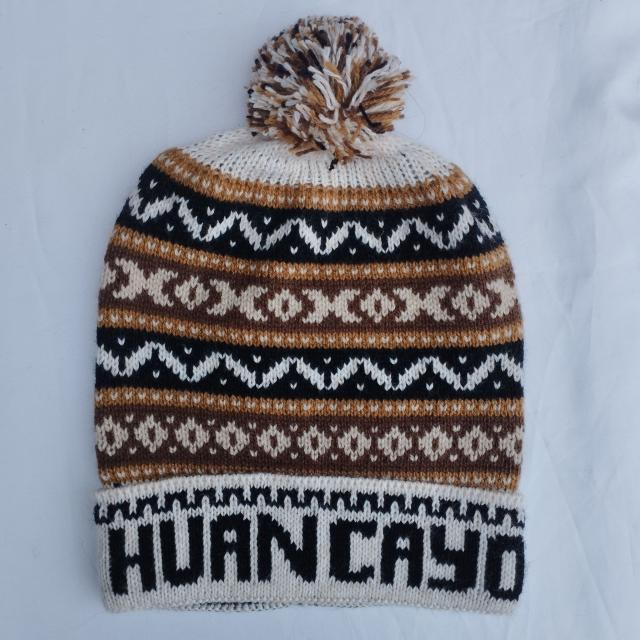Gorro: (92, 14, 528, 614)
